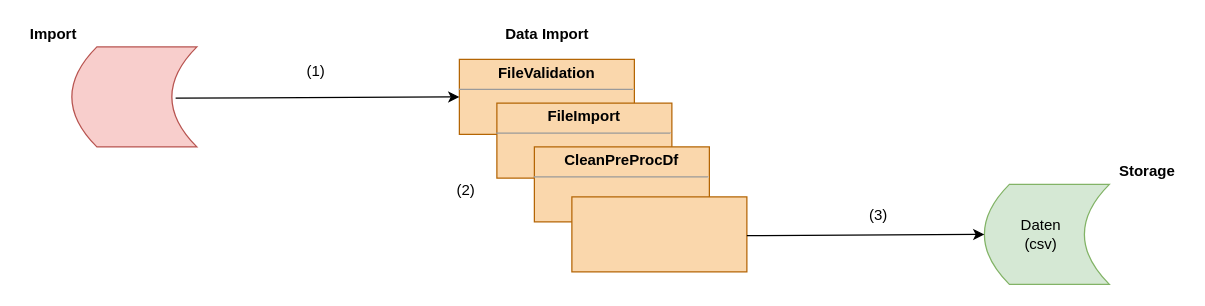
Some shapes in this 1205 by 306 pixel diagram are drawn without their labels. The shapes that lost their labels are listed below. From the top down, each one's centre as x and y in pixels, then its label:
At point (134, 96): "Rohdaten (txt,tsv,xlsx,..)".
At point (659, 234): "SaveDfToCSV".
